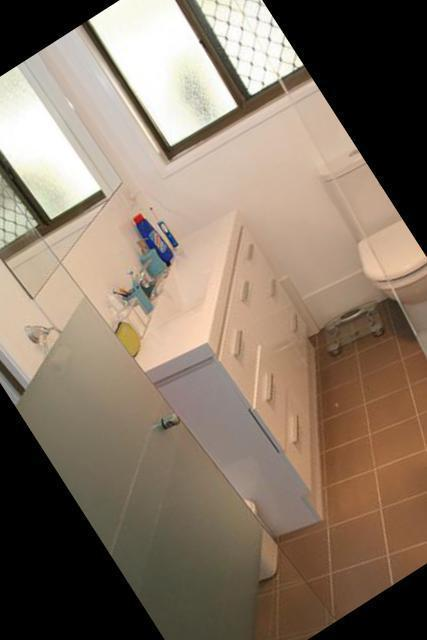Lavamanos: (90, 215, 228, 349)
Sanitario: (293, 113, 427, 363)
